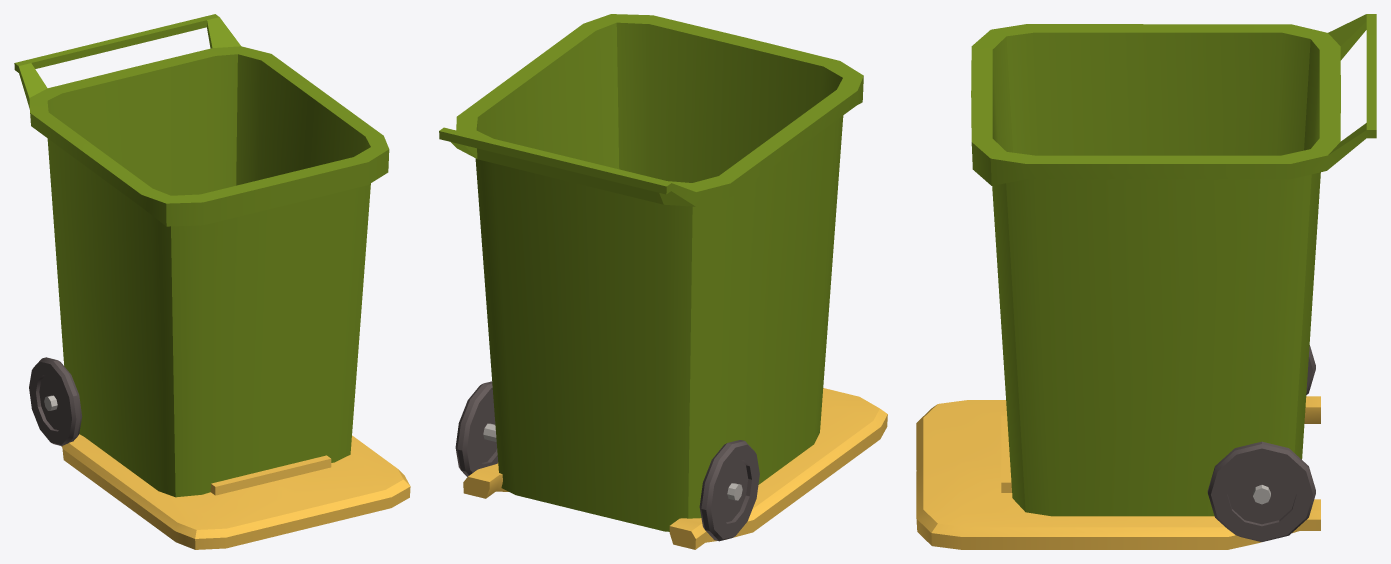
Rendered from Garbage.fbx.
The picture shows the model from 3 angles, left to right: view 1: azimuth 30°, elevation 25°; view 2: azimuth 150°, elevation 25°; view 3: azimuth 270°, elevation 25°; orthographic projection. The views are drawn at different scales.
Visible parts, largest first — view 1: garbage, garbage.001; view 2: garbage, garbage.001; view 3: garbage, garbage.001.
Boxes of the visible parts, x1,y1,x2,y2 form: garbage: (14,14,389,497); garbage.001: (61,434,410,549); garbage: (439,14,863,541); garbage.001: (463,388,887,549); garbage: (971,14,1376,541); garbage.001: (916,396,1320,549).
Bounding box in the file's own units: 2.23 × 3.06 × 3.09.
